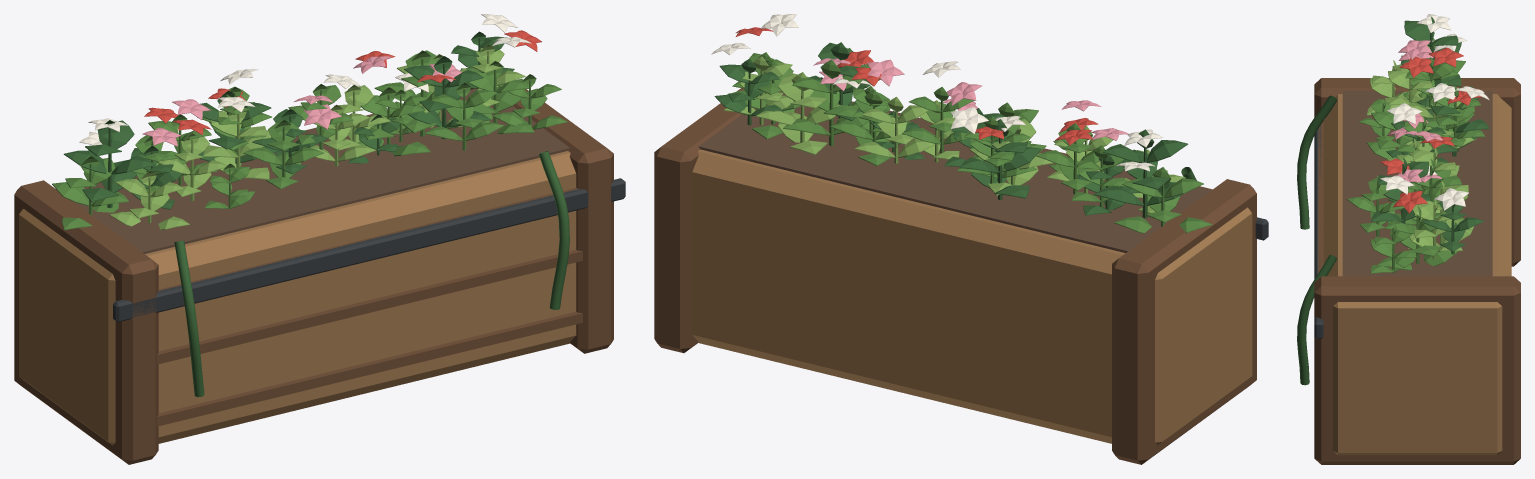
The picture shows the model from 3 angles, left to right: view 1: azimuth 30°, elevation 25°; view 2: azimuth 150°, elevation 25°; view 3: azimuth 270°, elevation 25°; orthographic projection. The views are drawn at different scales.
Visible parts, largest first — view 1: lane_wood, lane_wood_dark, lane_soil, lane_leaf, lane_leaf_dark, lane_iron, lane_leaf_light, lane_flower_white, lane_flower_pink, lane_flower_red; view 2: lane_wood, lane_wood_dark, lane_soil, lane_leaf, lane_leaf_dark, lane_leaf_light, lane_flower_white, lane_flower_pink, lane_flower_red; view 3: lane_wood, lane_wood_dark, lane_soil, lane_leaf, lane_leaf_dark, lane_leaf_light, lane_flower_white, lane_flower_red, lane_flower_pink, lane_iron.
Boxes of the visible parts, x1,y1,x2,y2 form: lane_wood: (19,88,576,445); lane_wood_dark: (14,88,613,464); lane_soil: (73,88,569,253); lane_leaf: (52,50,567,230); lane_leaf_dark: (63,31,569,397); lane_iron: (113,178,625,322); lane_leaf_light: (109,44,525,229); lane_flower_white: (79,14,531,145); lane_flower_pink: (142,56,461,146); lane_flower_red: (144,30,541,135); lane_wood: (692,101,1252,445); lane_wood_dark: (654,88,1256,464); lane_soil: (698,91,1212,252); lane_leaf: (727,48,1212,233); lane_leaf_dark: (714,42,1197,218); lane_leaf_light: (724,56,1185,213); lane_flower_white: (711,14,1163,171); lane_flower_pink: (813,58,1128,140); lane_flower_red: (736,27,1098,145); lane_wood: (1323,94,1511,455); lane_wood_dark: (1314,78,1520,464); lane_soil: (1342,91,1492,276); lane_leaf: (1346,38,1485,273); lane_leaf_dark: (1297,16,1489,385); lane_leaf_light: (1367,60,1476,259); lane_flower_white: (1380,14,1489,210); lane_flower_red: (1380,47,1481,213); lane_flower_pink: (1387,40,1442,182); lane_iron: (1314,125,1323,338).
Size of the model in its own units: 1.12 by 0.6179 by 0.4769.
